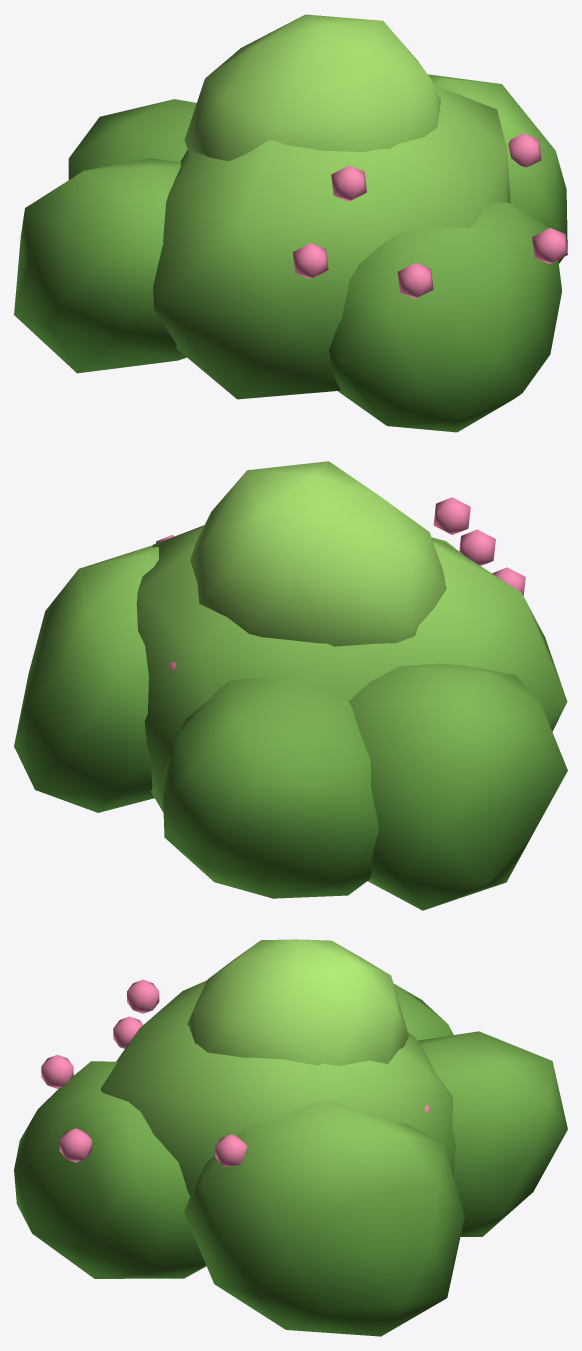
The model's file is Plant_Bush.glb.
The picture shows the model from 3 angles, top to bottom: view 1: azimuth 30°, elevation 25°; view 2: azimuth 150°, elevation 25°; view 3: azimuth 270°, elevation 25°; orthographic projection. The views are drawn at different scales.
Parts seen in each view (by area): view 1: Plant_Bush; view 2: Plant_Bush; view 3: Plant_Bush.
Part boxes in pixels (x1,y1,x2,y2): Plant_Bush: [14, 14, 567, 432]; Plant_Bush: [14, 461, 567, 910]; Plant_Bush: [14, 939, 567, 1336].
Bounding box in the file's own units: 2.41 × 1.48 × 2.48.
